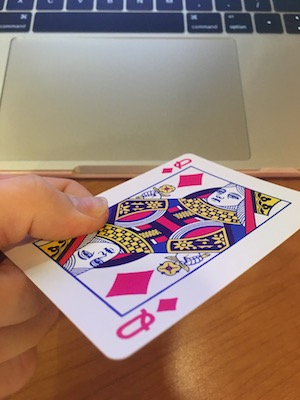QueenOfDiamonds: (6, 145, 300, 365)
